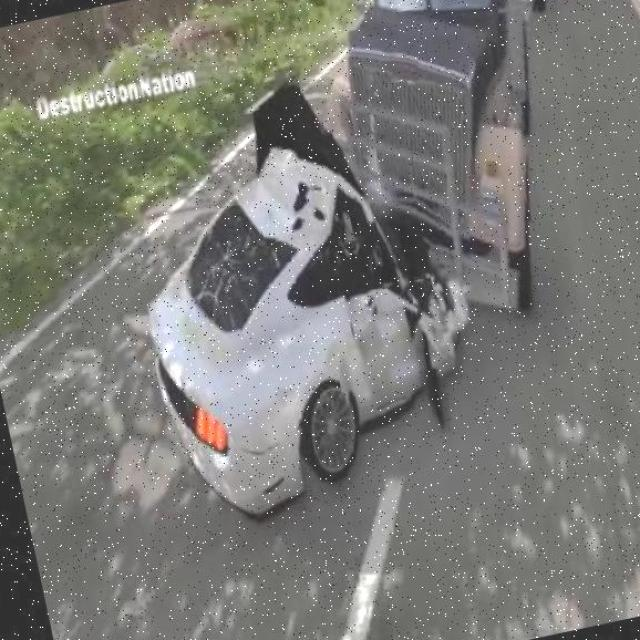accident: (242, 38, 535, 406)
